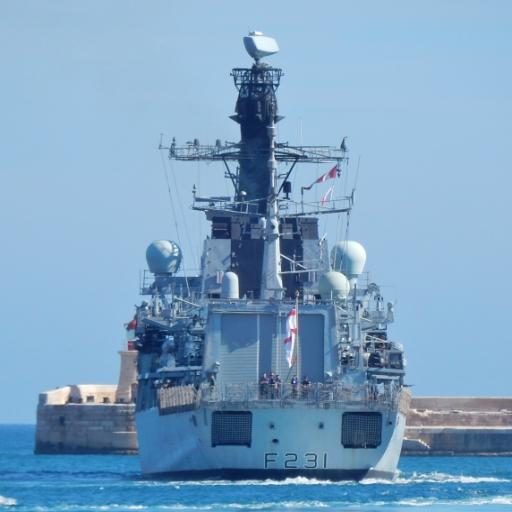Fragata: (130, 27, 406, 480)
